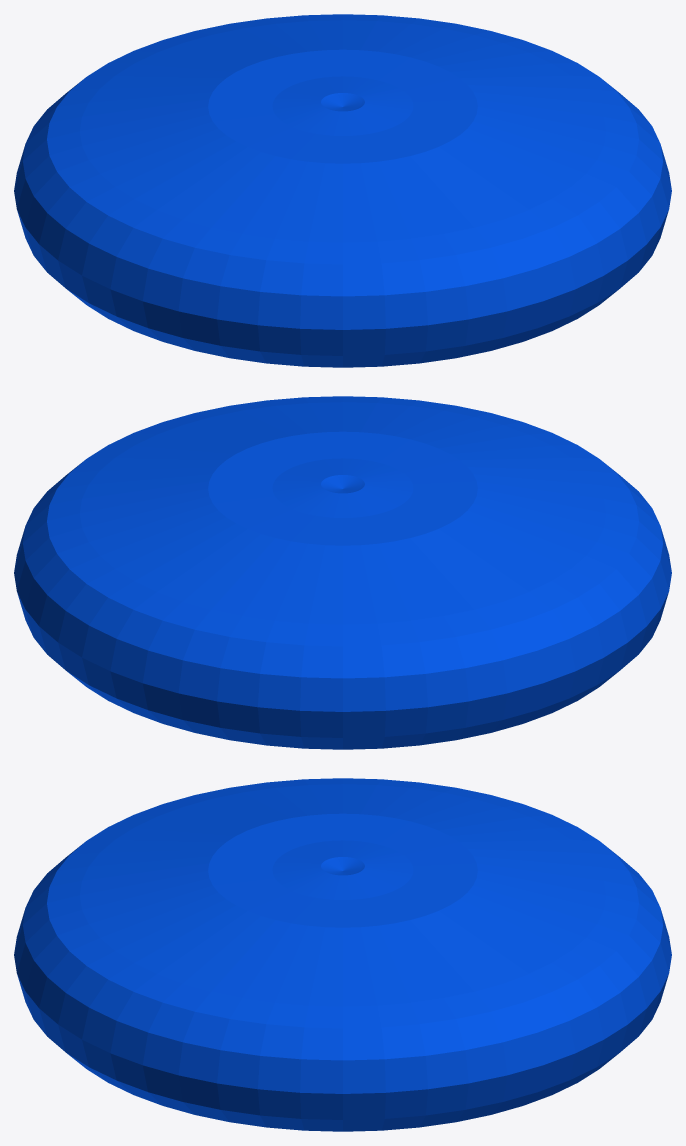
The model's file is sample.glb.
3 renders of one model, top to bottom at view 1: azimuth 30°, elevation 25°; view 2: azimuth 150°, elevation 25°; view 3: azimuth 270°, elevation 25°, orthographic.
Visible parts, largest first — view 1: Torus.001; view 2: Torus.001; view 3: Torus.001.
Part boxes in pixels (bbox=[...]): Torus.001: bbox=[14, 14, 671, 367]; Torus.001: bbox=[14, 396, 671, 749]; Torus.001: bbox=[14, 778, 671, 1131].
Size of the model in its own units: 5.83 by 1.45 by 5.83.
